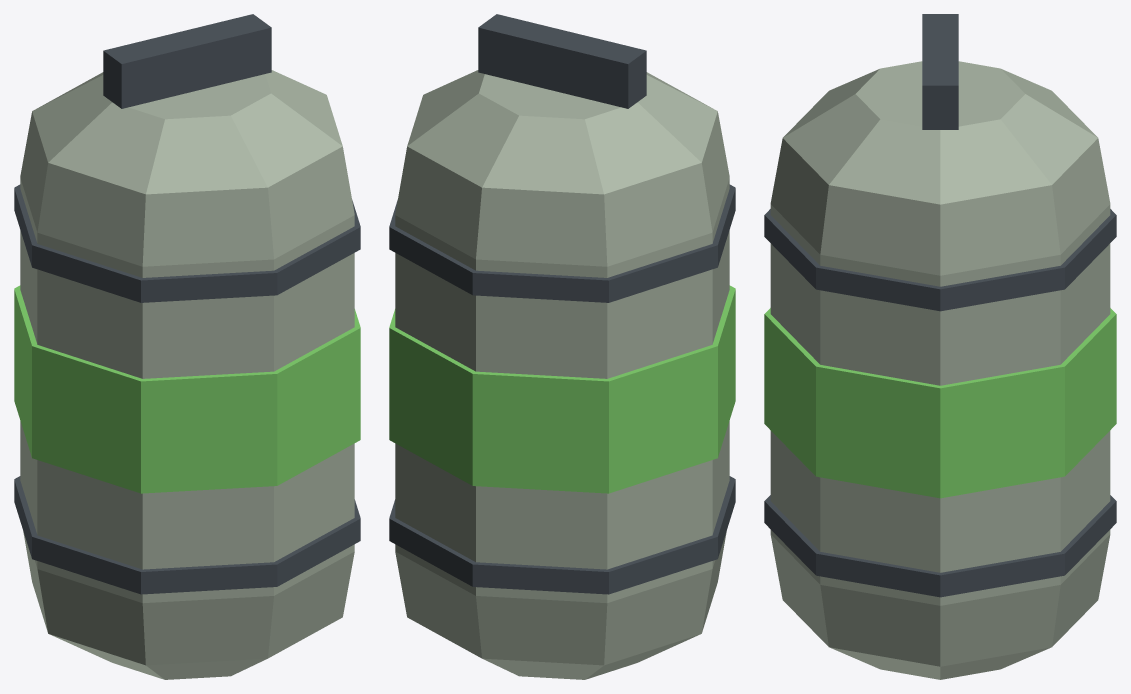
The model's file is SH_FuelCanister_01.glb.
3 views of the same model, side by side, from view 1: azimuth 30°, elevation 25°; view 2: azimuth 150°, elevation 25°; view 3: azimuth 270°, elevation 25° (orthographic).
Parts seen in each view (by area): view 1: SH_FuelCanister_01; view 2: SH_FuelCanister_01; view 3: SH_FuelCanister_01.
Part boxes in pixels (box(x1,y1,x2,y2)): SH_FuelCanister_01: box(14, 14, 360, 679); SH_FuelCanister_01: box(389, 14, 735, 679); SH_FuelCanister_01: box(764, 14, 1116, 679).
Size of the model in its own units: 0.29 by 0.54 by 0.29.
Materials: 1 (1 with a texture image).
